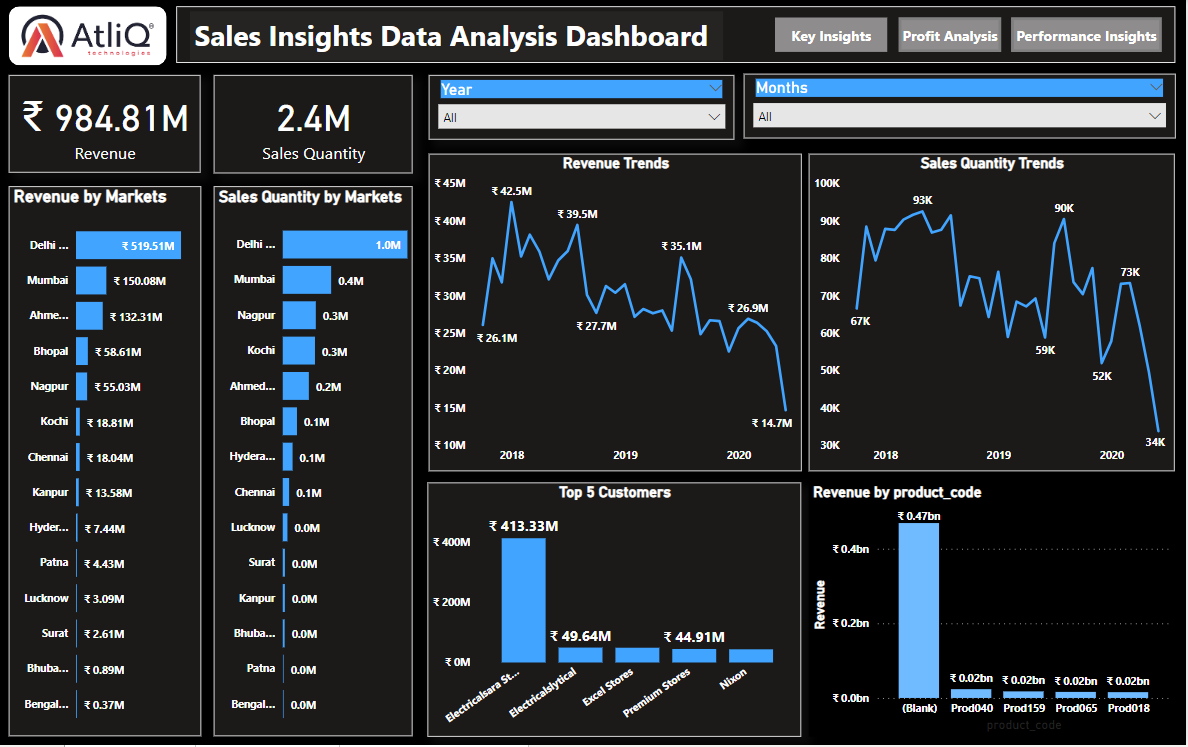

Layout of this report page (visuals, bound fields, positions):
{"tool":"powerbi","page":{"name":"key insights","canvas":[1350,850],"ordinal":0},"visuals":[{"type":"card","fields":{"Values":["keymeasure.Revenue"]},"box":[10.1,85.4,218.5,111.4],"z":0},{"type":"card","fields":{"Values":["keymeasure.sales quntity"]},"box":[243.3,85,226.7,111.7],"z":1000},{"type":"barChart","title":"Revenue by Markets","fields":{"Y":["keymeasure.Revenue"],"Category":["sales markets.markets_name"]},"box":[9.8,212.1,219.2,626.6],"z":2000},{"type":"barChart","title":"Sales Quantity by Markets","fields":{"Y":["keymeasure.sales quntity"],"Category":["sales markets.markets_name"]},"box":[243.3,211.7,226.7,626.7],"z":3000},{"type":"slicer","fields":{"Values":["sales date.year"]},"box":[488.3,85,348.3,73.3],"z":4000},{"type":"slicer","fields":{"Values":["sales date.cy_date"]},"box":[846.7,83.3,491.7,73.3],"z":5000},{"type":"columnChart","title":"Top 5 Customers","fields":{"Category":["sales customers.custmer_name"],"Y":["keymeasure.Revenue"]},"box":[487.5,549.3,425.7,289.4],"z":6000},{"type":"columnChart","fields":{"Category":["sales products.product_code"],"Y":["keymeasure.Revenue"]},"box":[921.7,549.3,417.3,289.4],"z":7000},{"type":"lineChart","title":"Revenue Trends","fields":{"Y":["keymeasure.Revenue"],"Category":["sales date.cy_date"]},"box":[488.3,175,425,361.7],"z":8000},{"type":"lineChart","title":"Sales Quantity Trends","fields":{"Y":["keymeasure.sales quntity"],"Category":["sales date.cy_date"]},"box":[921.7,175,416.7,361.7],"z":9000},{"type":"shape","box":[200.9,7,1138,64.6],"z":10000},{"type":"shape","box":[9.8,7,179.8,67.4],"z":11000},{"type":"image","box":[14,7,171.4,67.4],"z":12000},{"type":"actionButton","box":[882.3,19.7,127.9,39.3],"z":13000},{"type":"actionButton","box":[1024.2,19.7,116.6,39.3],"z":14000},{"type":"actionButton","box":[1152.1,19.7,171.4,39.3],"z":15000},{"type":"textbox","box":[216.4,12.6,606.9,56.2],"z":16000}]}

Visuals, with their boxes in screenshot pixels (x1, y1, x2, y2), scaled from the page's 1350x850 canvas onto the 1188x747 screenshot:
card - keymeasure.Revenue: x1=9, y1=75, x2=201, y2=173
card - keymeasure.sales quntity: x1=214, y1=75, x2=414, y2=173
"Revenue by Markets" barChart: x1=9, y1=186, x2=202, y2=737
"Sales Quantity by Markets" barChart: x1=214, y1=186, x2=414, y2=737
slicer - sales date.year: x1=430, y1=75, x2=736, y2=139
slicer - sales date.cy_date: x1=745, y1=73, x2=1178, y2=138
"Top 5 Customers" columnChart: x1=429, y1=483, x2=804, y2=737
columnChart - sales products.product_code x keymeasure.Revenue: x1=811, y1=483, x2=1178, y2=737
"Revenue Trends" lineChart: x1=430, y1=154, x2=804, y2=472
"Sales Quantity Trends" lineChart: x1=811, y1=154, x2=1178, y2=472
shape: x1=177, y1=6, x2=1178, y2=63
shape: x1=9, y1=6, x2=167, y2=65
image: x1=12, y1=6, x2=163, y2=65
actionButton: x1=776, y1=17, x2=889, y2=52
actionButton: x1=901, y1=17, x2=1004, y2=52
actionButton: x1=1014, y1=17, x2=1165, y2=52
textbox: x1=190, y1=11, x2=725, y2=60
